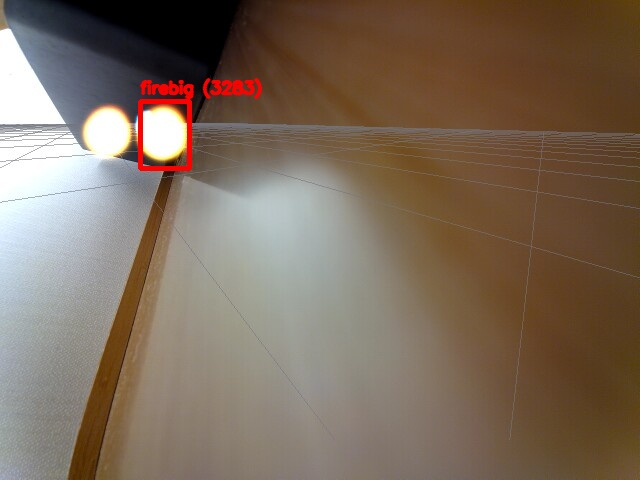firebig: (140, 101, 189, 168)
